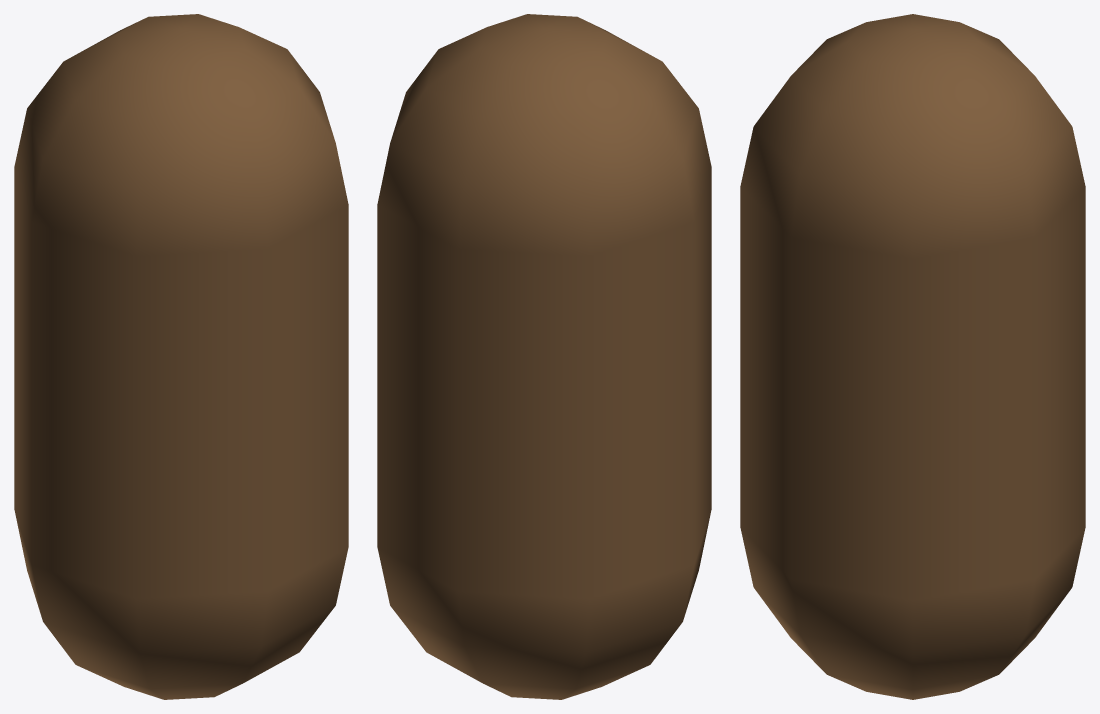
File: neck.glb
The picture shows the model from 3 angles, left to right: view 1: azimuth 30°, elevation 25°; view 2: azimuth 150°, elevation 25°; view 3: azimuth 270°, elevation 25°; orthographic projection.
Visible parts, largest first — view 1: part_0; view 2: part_0; view 3: part_0.
Part boxes in pixels (x1,y1,x2,y2): part_0: [14, 14, 348, 699]; part_0: [377, 14, 711, 699]; part_0: [740, 14, 1085, 699].
Size of the model in its own units: 0.11 by 0.23 by 0.11.
